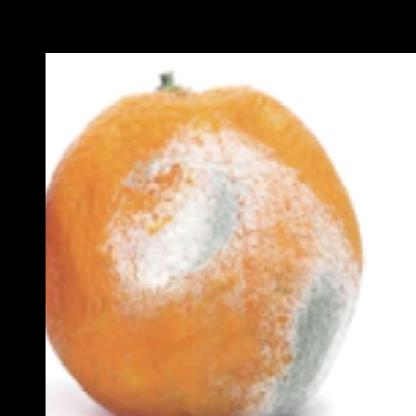rotten: (44, 69, 362, 416)
